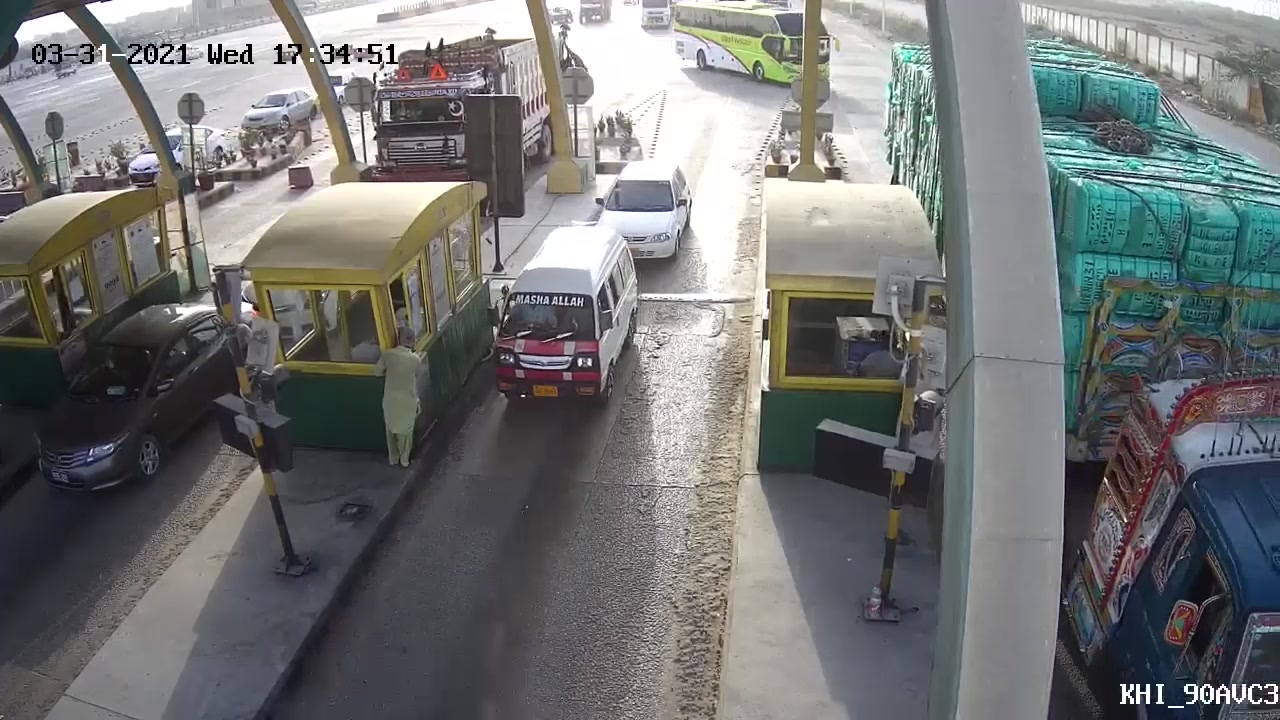F1: (469, 217, 660, 413)
